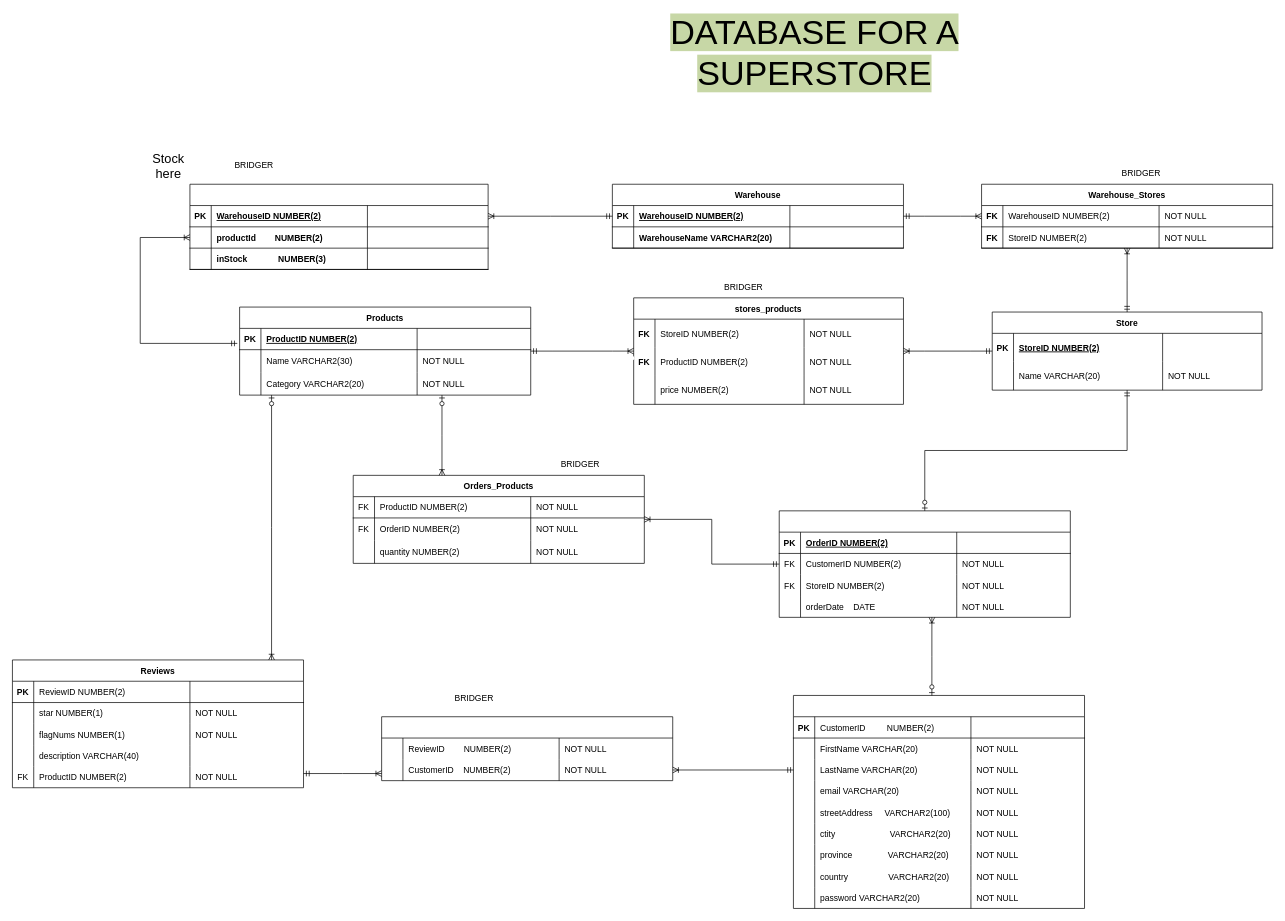
Some shapes in this 1285 by 921 pixel diagram are drawn without their labels. Here are the shapes that lost their labels. From the top down, the box of each, then its label:
(189, 184, 488, 269): Warehouse_products
(779, 510, 1070, 617): Orders
(381, 716, 673, 781): Reviews_customers
(793, 695, 1085, 908): Customers
